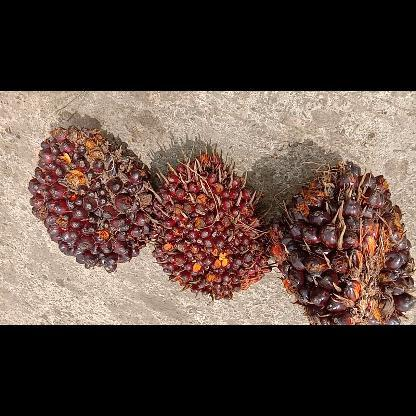Kurang masak: (150, 144, 272, 300), (27, 128, 150, 272)
TBS masak: (273, 160, 415, 324)
